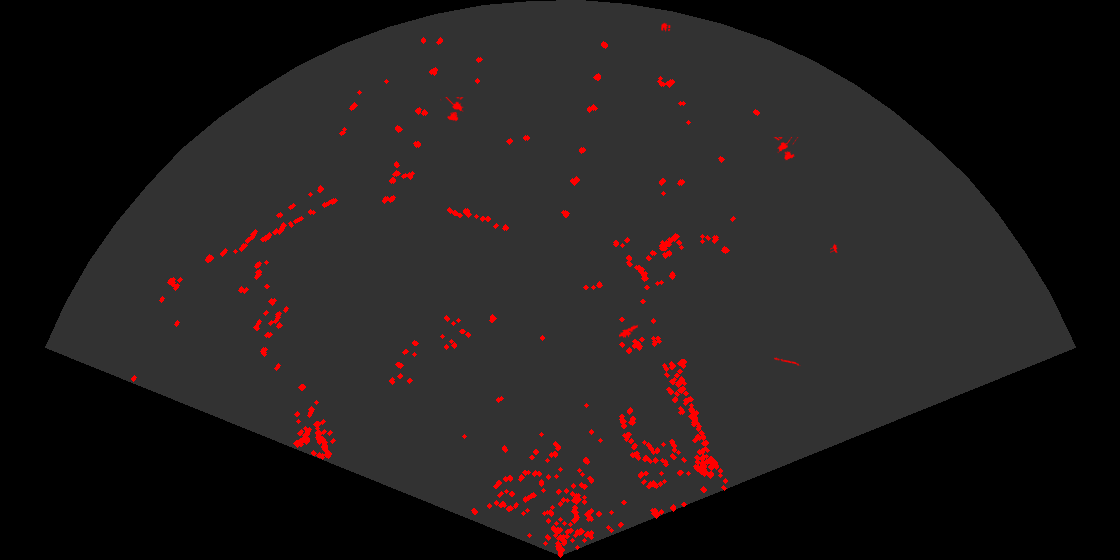AUV: (830, 242, 839, 255)
ball: (660, 21, 672, 33)
cage: (772, 137, 799, 162), (440, 97, 465, 123)
chain: (774, 356, 801, 367)
frogman: (619, 324, 640, 339)
